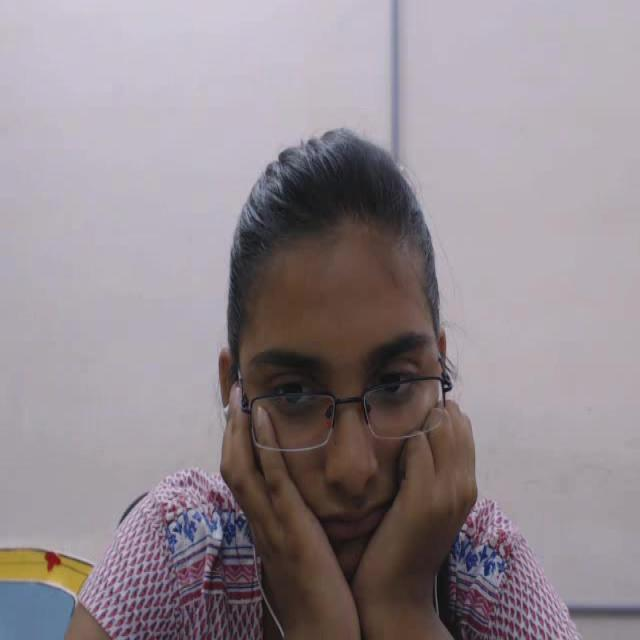Bored: (176, 82, 514, 579)
